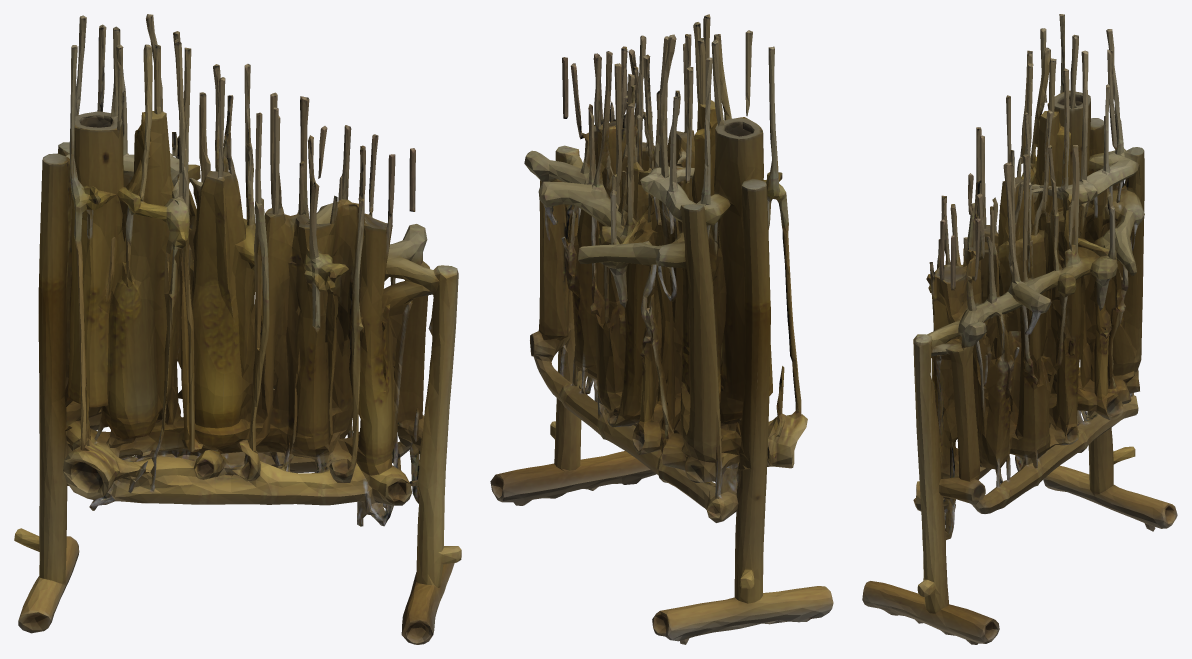
Rendered from jawa-barat.glb.
3 views of the same model, side by side, from view 1: azimuth 30°, elevation 25°; view 2: azimuth 150°, elevation 25°; view 3: azimuth 270°, elevation 25° (orthographic). The views are drawn at different scales.
Parts seen in each view (by area): view 1: world; view 2: world; view 3: world.
Boxes of the visible parts, bbox=[...] form: world: bbox=[14, 14, 461, 644]; world: bbox=[490, 14, 833, 644]; world: bbox=[862, 14, 1177, 644].
Bounding box in the file's own units: 0.4917 × 0.6977 × 0.3974.
1 material, 1 textured.
